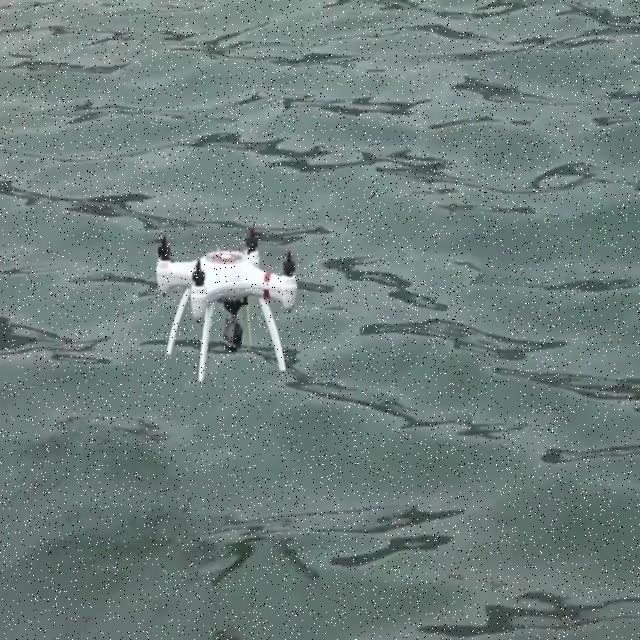UAV: (156, 228, 297, 382)
